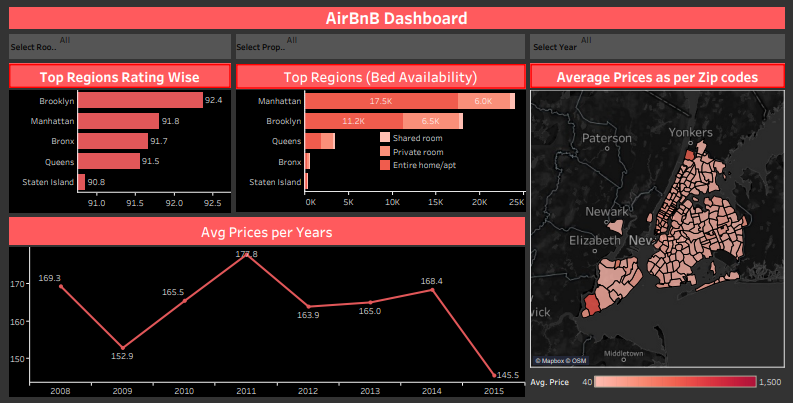

Layout of this report page (visuals, bound fields, positions):
{"tool":"tableau","page":{"name":"AirBnB Dashboard","canvas":[1000,1000],"units":"permille","ordinal":0},"visuals":[{"type":"title","box":[6.9,13.5,986.1,65.9]},{"type":"filter","title":"Top Regions Rating Wise","param":"[federated.0cu642m1d9blbf18wy2k405kf4am].[none:Room Type:nk]","box":[6.9,79.4,286.2,74.2]},{"type":"filter","title":"Top Regions (Bed Availability)","param":"[federated.0cu642m1d9blbf18wy2k405kf4am].[none:Property Type:nk]","box":[293.1,79.4,372.2,74.3]},{"type":"filter","title":"Top Regions (Bed Availability)","param":"[federated.0cu642m1d9blbf18wy2k405kf4am].[yr:Host Since:ok]","box":[665.3,79.4,327.8,73.9]},{"type":"worksheet","title":"Average Prices as per Zip codes","mark":"Automatic","box":[665.3,153.3,327.8,762.2]},{"type":"worksheet","title":"Top Regions Rating Wise","mark":"Automatic","rows":["Neighbourhood"],"cols":["Review Scores Rating"],"box":[6.9,153.6,286.2,379.2]},{"type":"worksheet","title":"Top Regions (Bed Availability)","mark":"Automatic","rows":["Neighbourhood"],"cols":["Beds"],"box":[293.1,153.7,372.2,379.2]},{"type":"legend","title":"Top Regions (Bed Availability)","param":"[federated.0cu642m1d9blbf18wy2k405kf4am].[none:Room Type:nk]","box":[476.2,324.3,105.6,111.5]},{"type":"worksheet","title":"Avg Prices per Years","mark":"Automatic","rows":["Price"],"cols":["Host Since"],"box":[6.9,532.9,658.3,453.6]},{"type":"legend","title":"Average Prices as per Zip codes","param":"[federated.0cu642m1d9blbf18wy2k405kf4am].[avg:Price:qk]","box":[665.3,915.5,327.8,71]}]}

Visuals, with their boxes on the dashboard's canvas, which has no fixed pixel size, in thousandths of its width and height (x1, y1, x2, y2). These are canvas units, not pixel positions in the 795x403 screenshot, which may show the page scaled, cropped or inside an application window:
title: left=7, top=14, right=993, bottom=79
"Top Regions Rating Wise" filter: left=7, top=79, right=293, bottom=154
"Top Regions (Bed Availability)" filter: left=293, top=79, right=665, bottom=154
"Top Regions (Bed Availability)" filter: left=665, top=79, right=993, bottom=153
"Average Prices as per Zip codes" worksheet: left=665, top=153, right=993, bottom=916
"Top Regions Rating Wise" worksheet: left=7, top=154, right=293, bottom=533
"Top Regions (Bed Availability)" worksheet: left=293, top=154, right=665, bottom=533
"Top Regions (Bed Availability)" legend: left=476, top=324, right=582, bottom=436
"Avg Prices per Years" worksheet: left=7, top=533, right=665, bottom=986
"Average Prices as per Zip codes" legend: left=665, top=916, right=993, bottom=986
